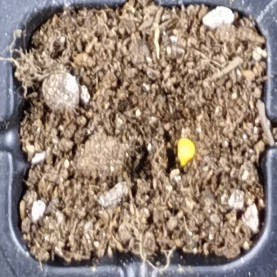pepper seed: (78, 52, 273, 220)
